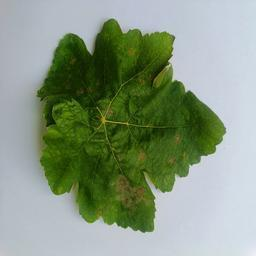Powdery-Mildew: (108, 178, 150, 216), (169, 134, 197, 166), (146, 67, 168, 95), (117, 40, 142, 63), (136, 151, 147, 162)
